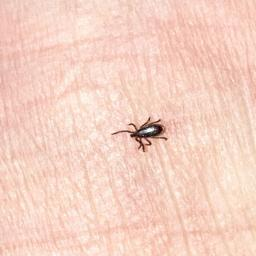Ixodes scapularis: (112, 117, 169, 152)
